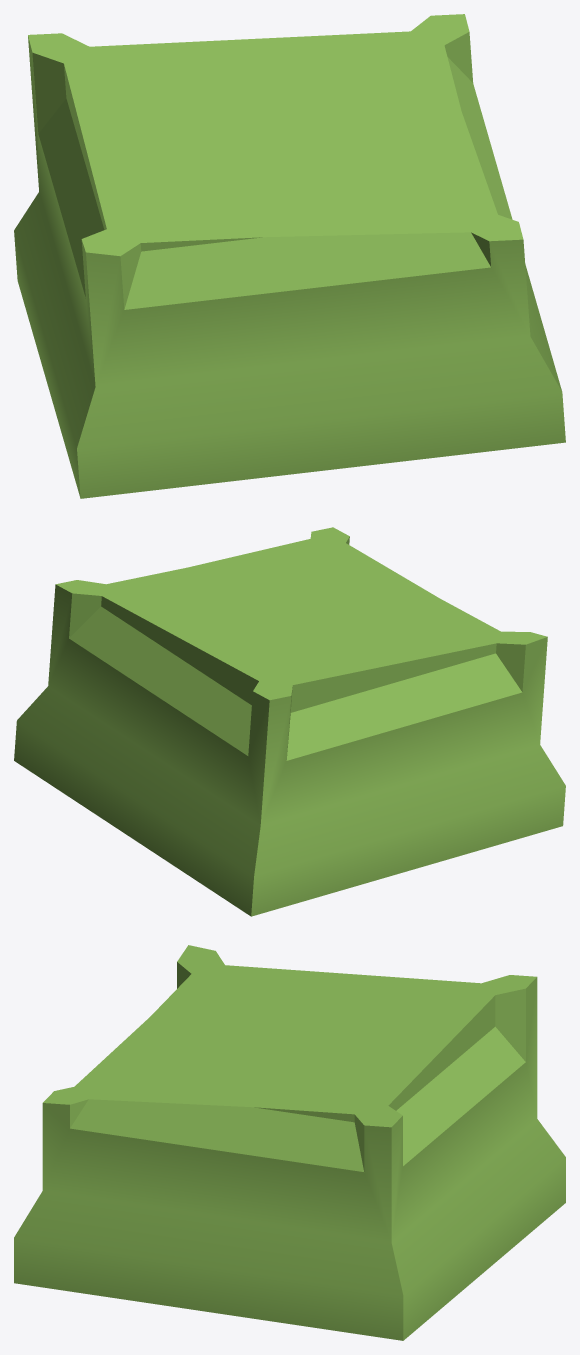
Rendered from Debris19.obj.
The picture shows the model from 3 angles, top to bottom: view 1: azimuth 30°, elevation 25°; view 2: azimuth 150°, elevation 25°; view 3: azimuth 270°, elevation 25°; orthographic projection. The views are drawn at different scales.
Parts seen in each view (by area): view 1: Debris19; view 2: Debris19; view 3: Debris19.
Boxes of the visible parts, bbox=[...] form: Debris19: bbox=[14, 14, 565, 498]; Debris19: bbox=[14, 527, 565, 916]; Debris19: bbox=[14, 945, 565, 1340].
Bounding box in the file's own units: 5.95 × 2.77 × 5.93.
